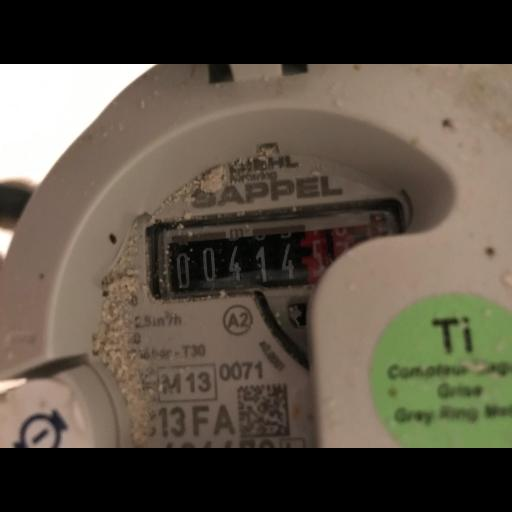0: (194, 239, 228, 292), (166, 242, 199, 295)
1: (251, 234, 281, 289)
4: (224, 236, 257, 289), (277, 232, 308, 287)
5: (303, 228, 338, 284)
7: (331, 224, 371, 260)
border_water_meter_number: (141, 197, 412, 307)
